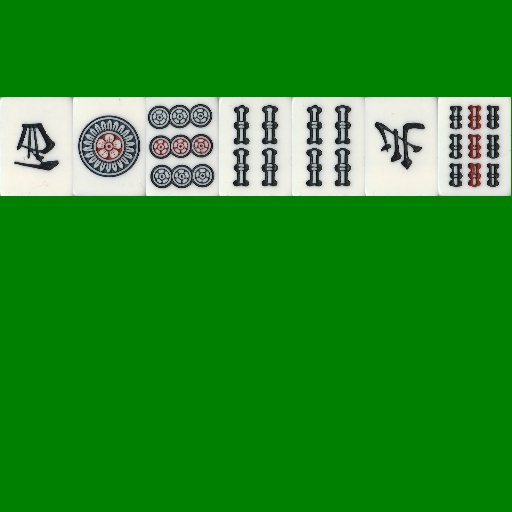1p: (73, 97, 146, 196)
4s: (219, 97, 292, 196), (292, 97, 365, 196)
9p: (146, 97, 219, 196)
9s: (438, 97, 511, 196)
north: (365, 97, 438, 196)
west: (0, 97, 73, 196)
